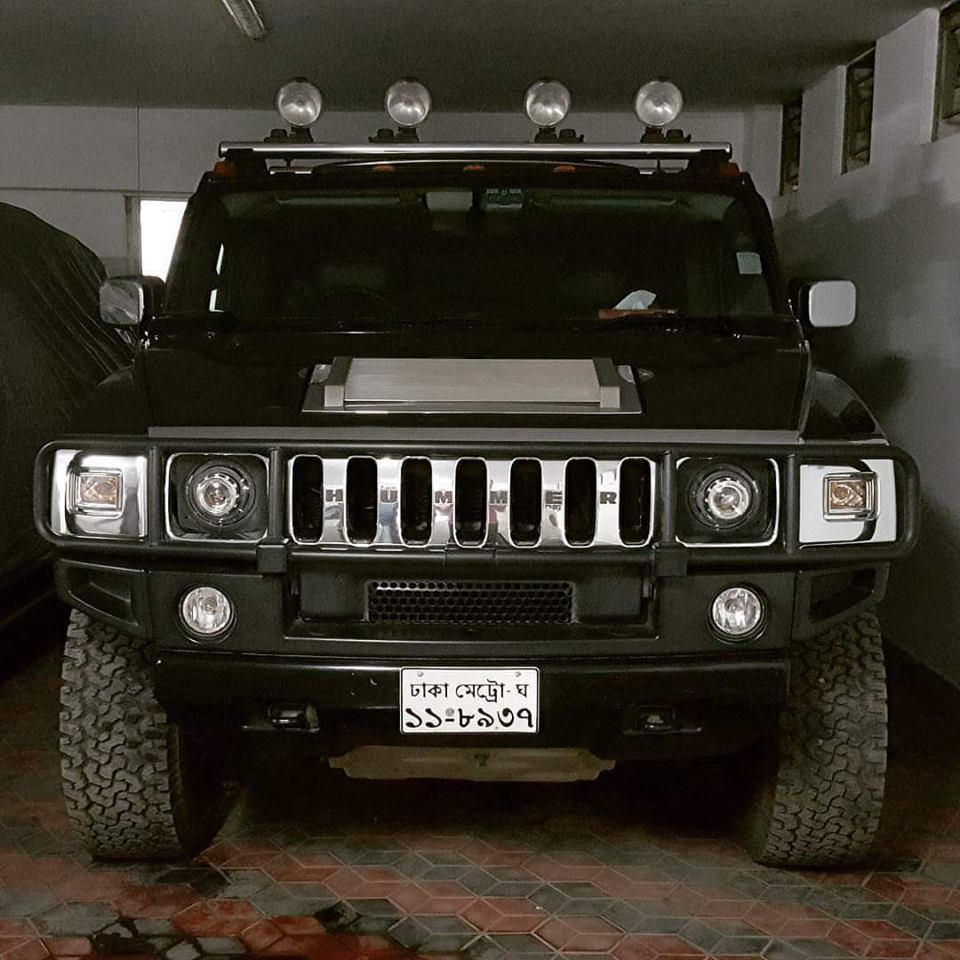registration_plate: (401, 666, 539, 735)
